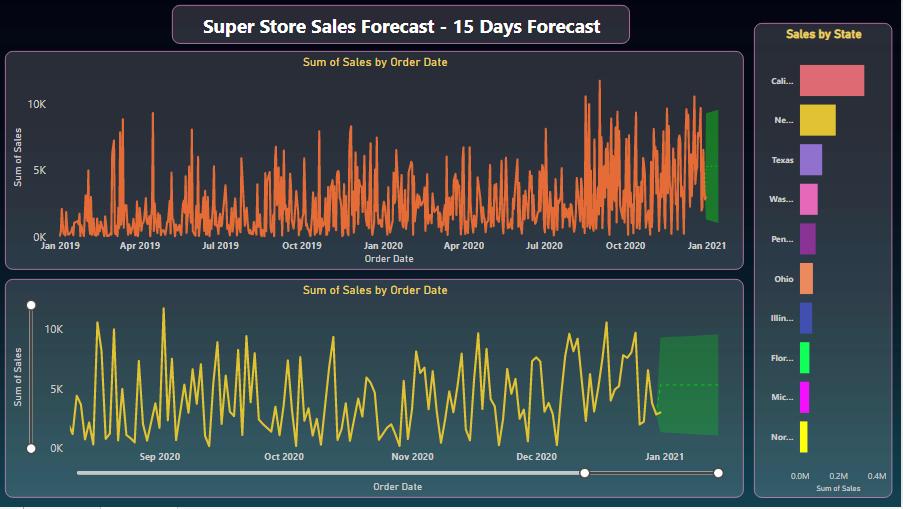

Layout of this report page (visuals, bound fields, positions):
{"tool":"powerbi","page":{"name":"Page 2","canvas":[1280,720],"ordinal":1},"visuals":[{"type":"lineChart","fields":{"Y":["Sum(SuperStore_Sales_Dataset.Sales)"],"Category":["SuperStore_Sales_Dataset.Order Date"]},"box":[9.9,73.7,1047.4,310.4],"z":0},{"type":"lineChart","fields":{"Y":["Sum(SuperStore_Sales_Dataset.Sales)"],"Category":["SuperStore_Sales_Dataset.Order Date"]},"box":[9.9,396.9,1047.4,310.4],"z":1000},{"type":"clusteredBarChart","title":"Sales by State","fields":{"Category":["SuperStore_Sales_Dataset.State"],"Y":["Sum(SuperStore_Sales_Dataset.Sales)"]},"box":[1072,33.6,196.3,672.7],"z":2000},{"type":"textbox","box":[246.6,8.5,649.1,55.3],"z":3000}]}

Visuals, with their boxes in screenshot pixels (x1, y1, x2, y2), scaled from the page's 1280x720 canvas onto the 903x509 screenshot:
lineChart - Sum(SuperStore_Sales_Dataset.Sales) x SuperStore_Sales_Dataset.Order Date: [7,52,746,272]
lineChart - Sum(SuperStore_Sales_Dataset.Sales) x SuperStore_Sales_Dataset.Order Date: [7,281,746,500]
"Sales by State" clusteredBarChart: [756,24,895,499]
textbox: [174,6,632,45]
